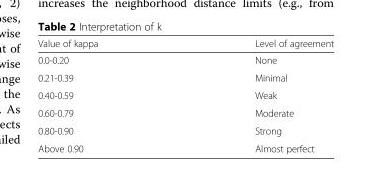table: (37, 37, 333, 153)
table column: (175, 37, 333, 153), (37, 37, 175, 153)
table column header: (37, 37, 333, 51)
table row: (37, 68, 333, 86), (37, 103, 333, 121), (37, 121, 333, 139), (37, 51, 333, 68), (37, 86, 333, 103), (37, 37, 333, 51), (37, 139, 333, 153)
